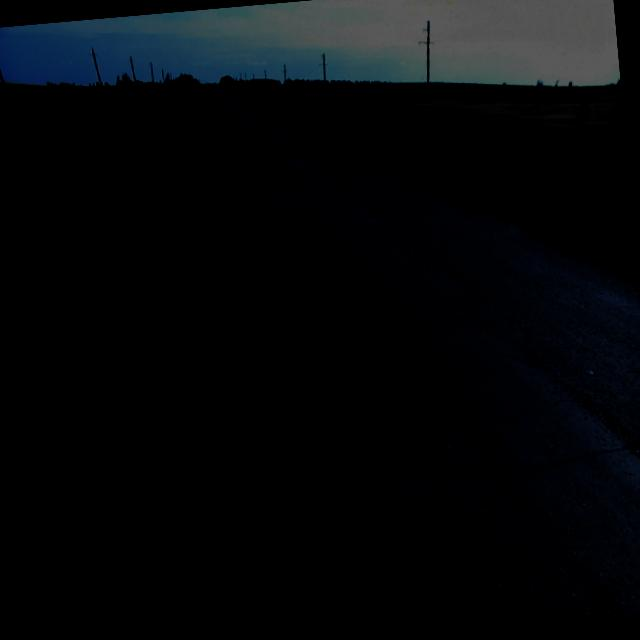road: (13, 84, 640, 640)
